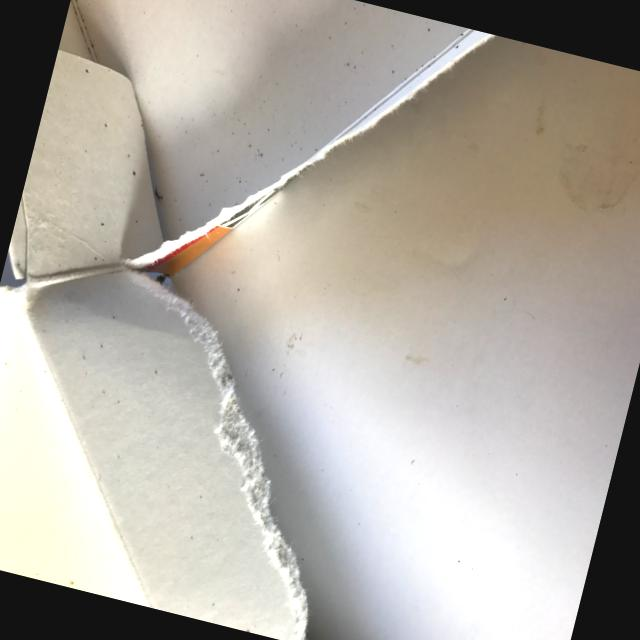Paper: (0, 0, 549, 640)
